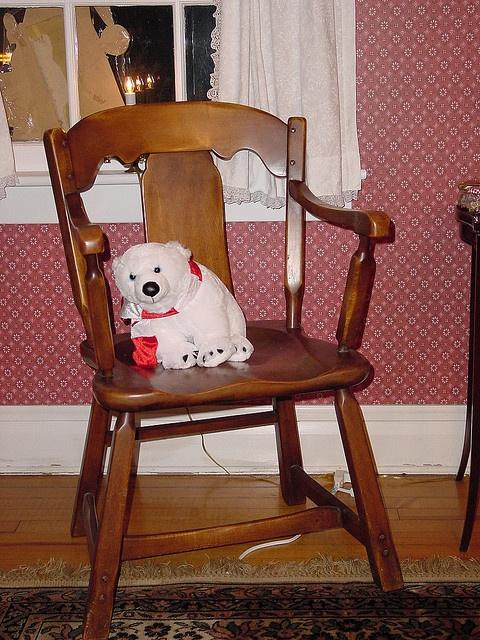Kursi: (43, 100, 404, 639)
